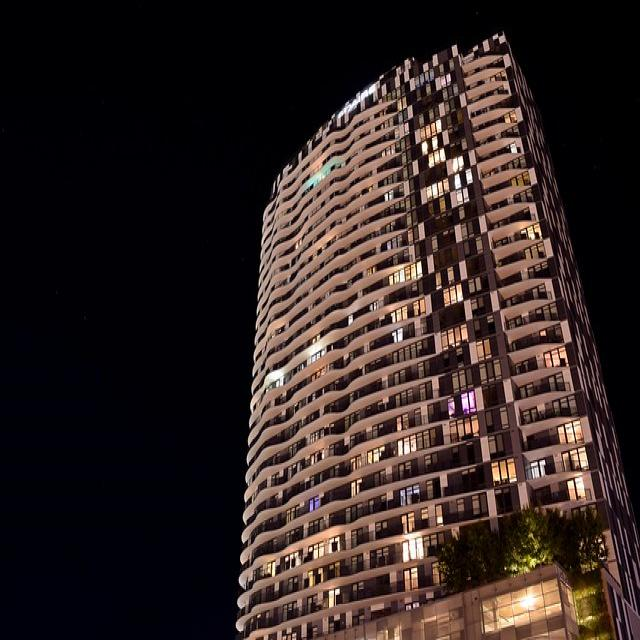Normal_building: (235, 36, 640, 640)
